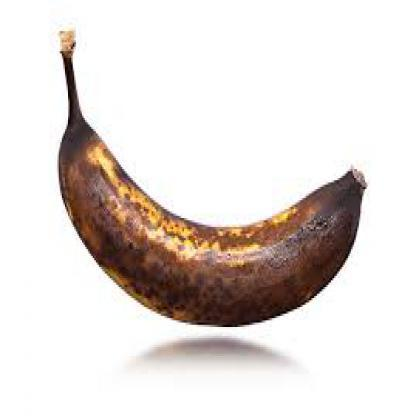banana_rotten: (31, 11, 379, 352)
